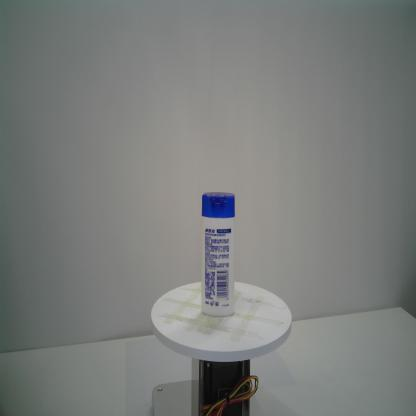Personal Hygiene: (200, 191, 236, 317)
